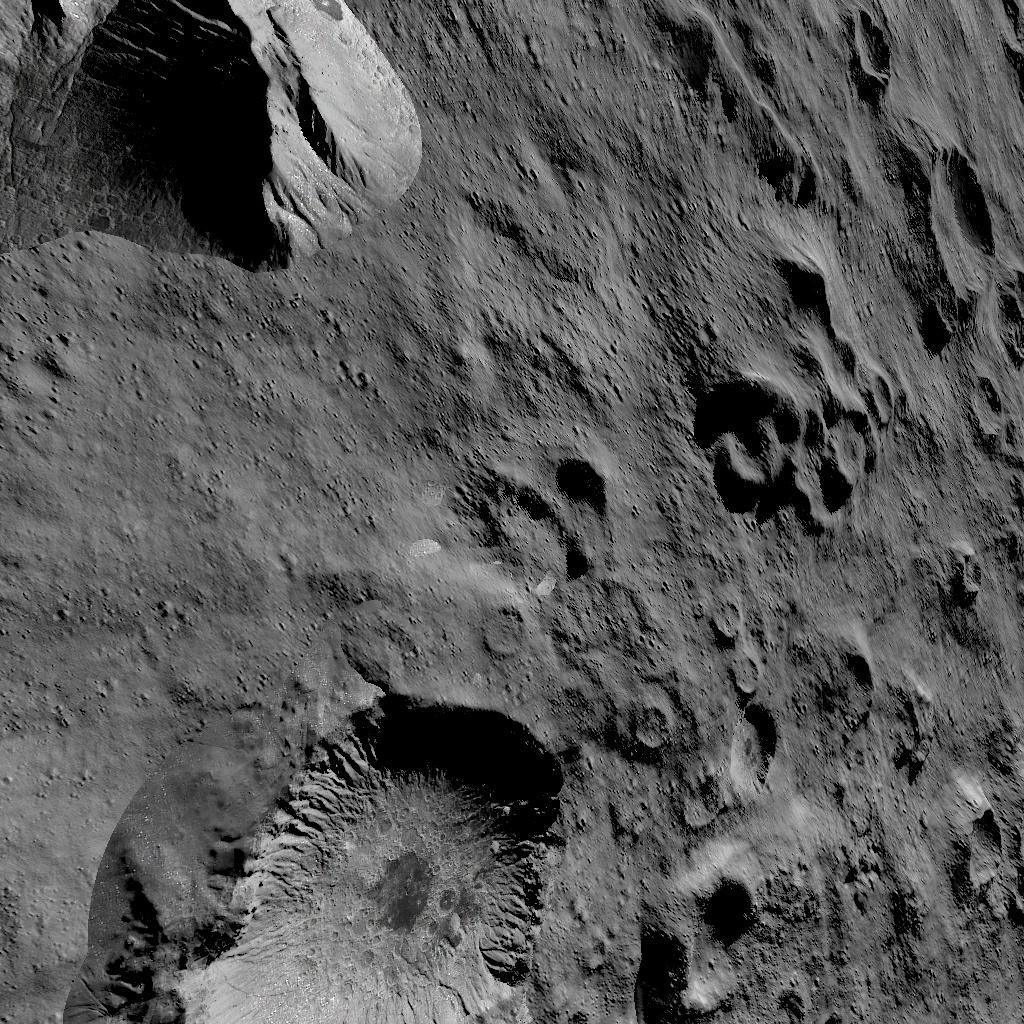Boulders: (0, 0, 421, 281)
Crater: (76, 698, 573, 1024), (857, 148, 1024, 356), (690, 372, 900, 529), (450, 452, 620, 588), (630, 861, 764, 1024), (700, 600, 781, 796), (943, 784, 1024, 928), (740, 249, 838, 353), (805, 648, 876, 735), (835, 6, 903, 91), (474, 596, 534, 664), (952, 376, 1008, 444), (938, 544, 986, 612), (622, 698, 674, 755)
Plan surface: (0, 290, 423, 681), (433, 0, 639, 441)
